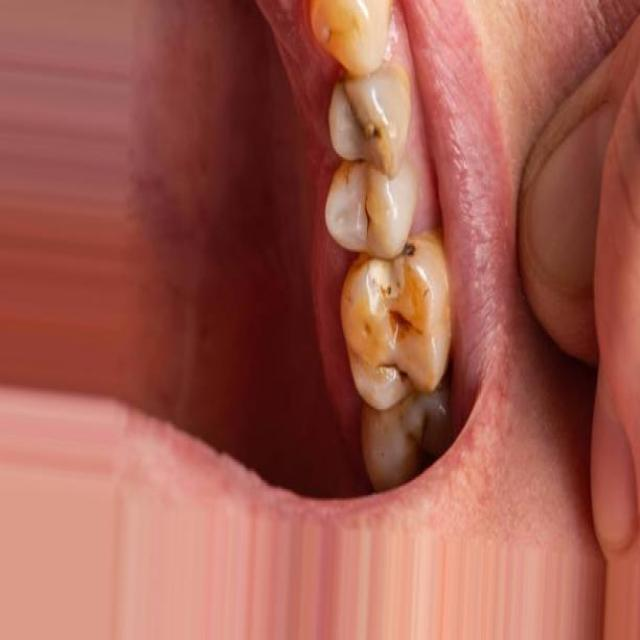caries: (340, 232, 442, 406), (337, 88, 392, 157), (351, 178, 389, 236)
